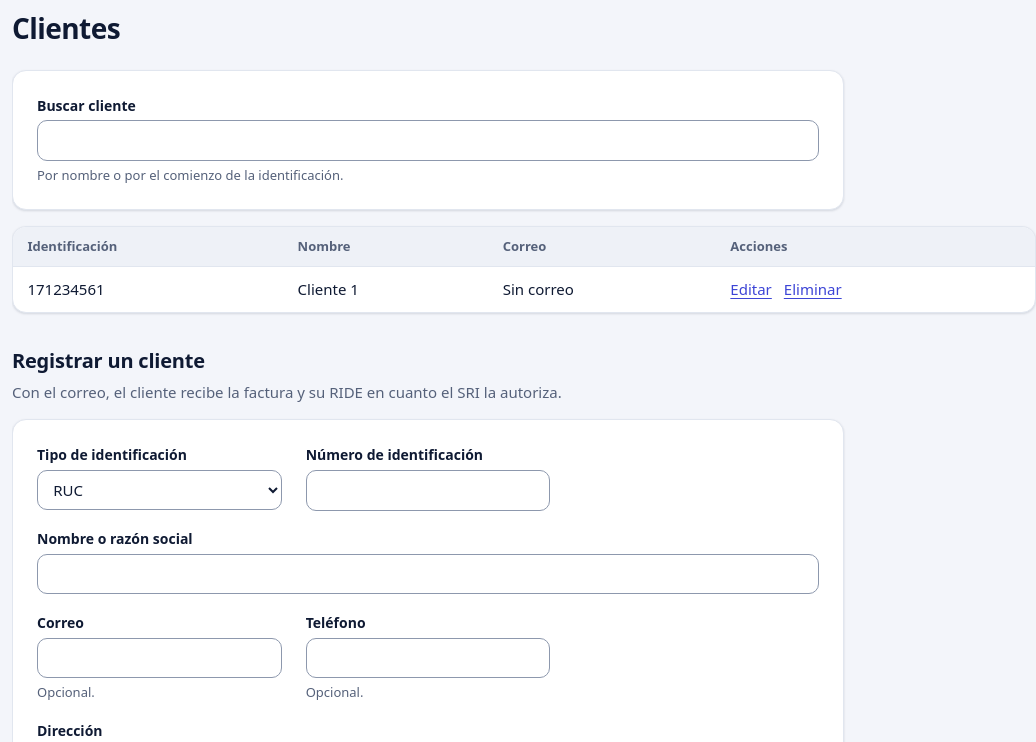
it: Clientes › asks before deleting a customer and removes it from the list
Click the button with aria-label "Eliminar a Cliente 1": (813, 289) [784,278,842,301]
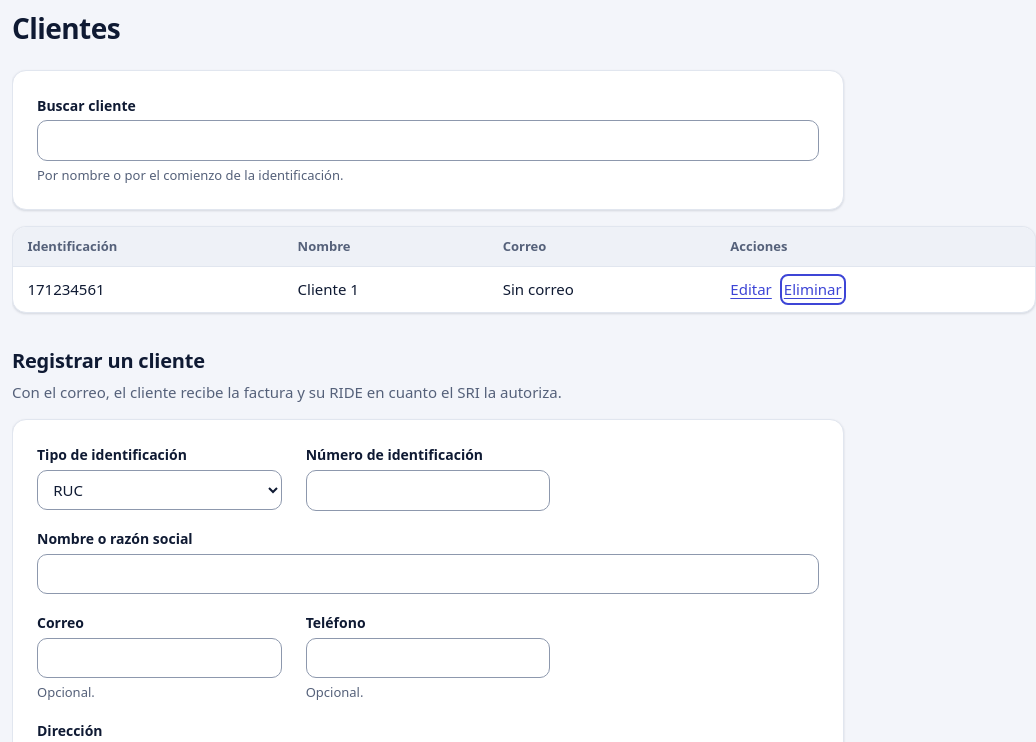
Click the button with aria-label "Eliminar a Cliente 1": (813, 289) [784,278,842,301]
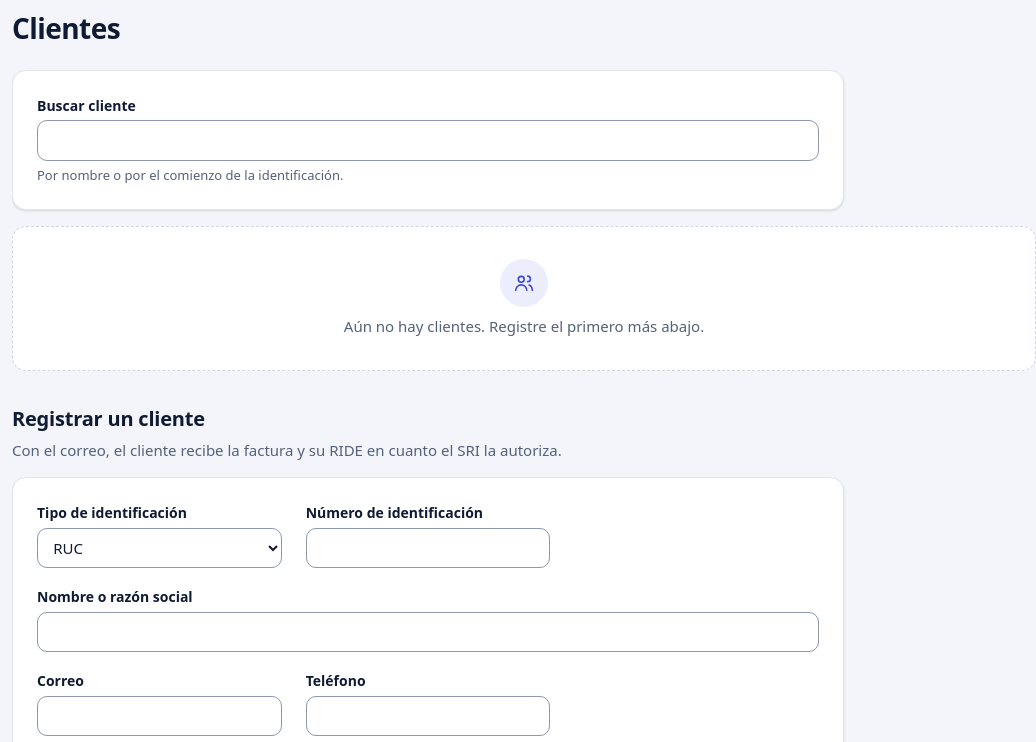
Result: the text "Aún no hay clientes. Registre el primero más abajo." is shown at [344,315,704,338]
